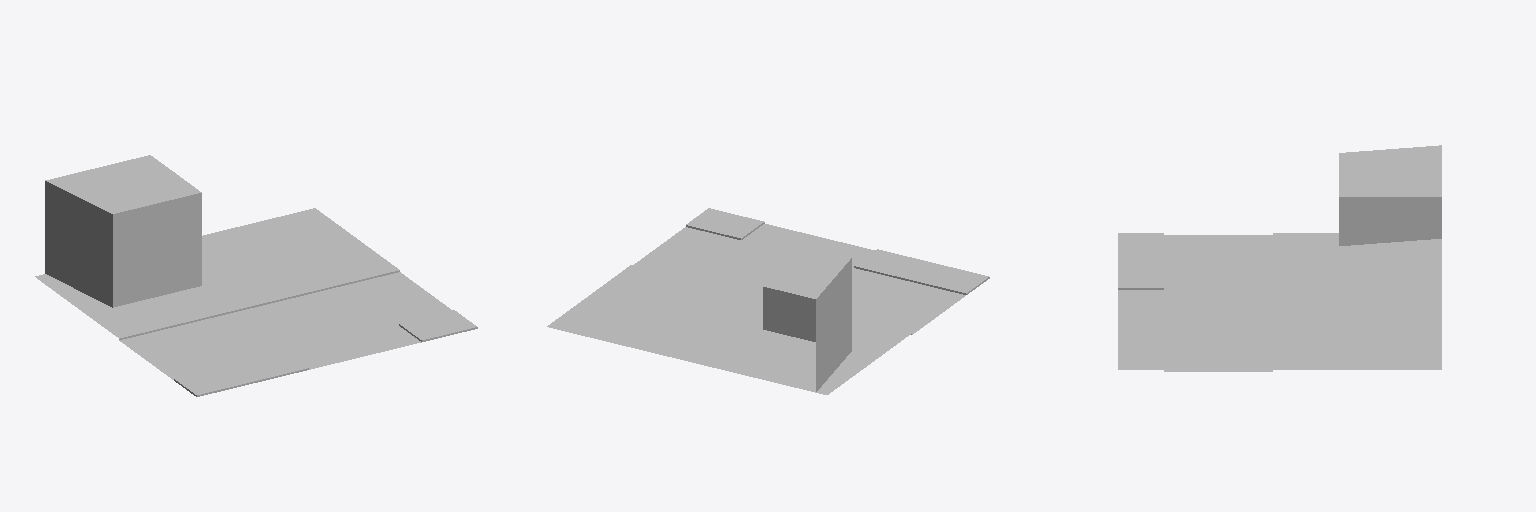
The model's file is 04_sept_r.obj.
The picture shows the model from 3 angles: view 1: azimuth 30°, elevation 25°; view 2: azimuth 150°, elevation 25°; view 3: azimuth 270°, elevation 25°; orthographic projection.
Parts seen in each view (by area): view 1: 04_sept_r_Grid.002; view 2: 04_sept_r_Grid.002; view 3: 04_sept_r_Grid.002.
Boxes of the visible parts, box(x1,y1,x2,y2) form: 04_sept_r_Grid.002: box(35, 155, 477, 396); 04_sept_r_Grid.002: box(547, 208, 989, 394); 04_sept_r_Grid.002: box(1118, 145, 1441, 371).
Size of the model in its own units: 15.98 by 5.17 by 16.